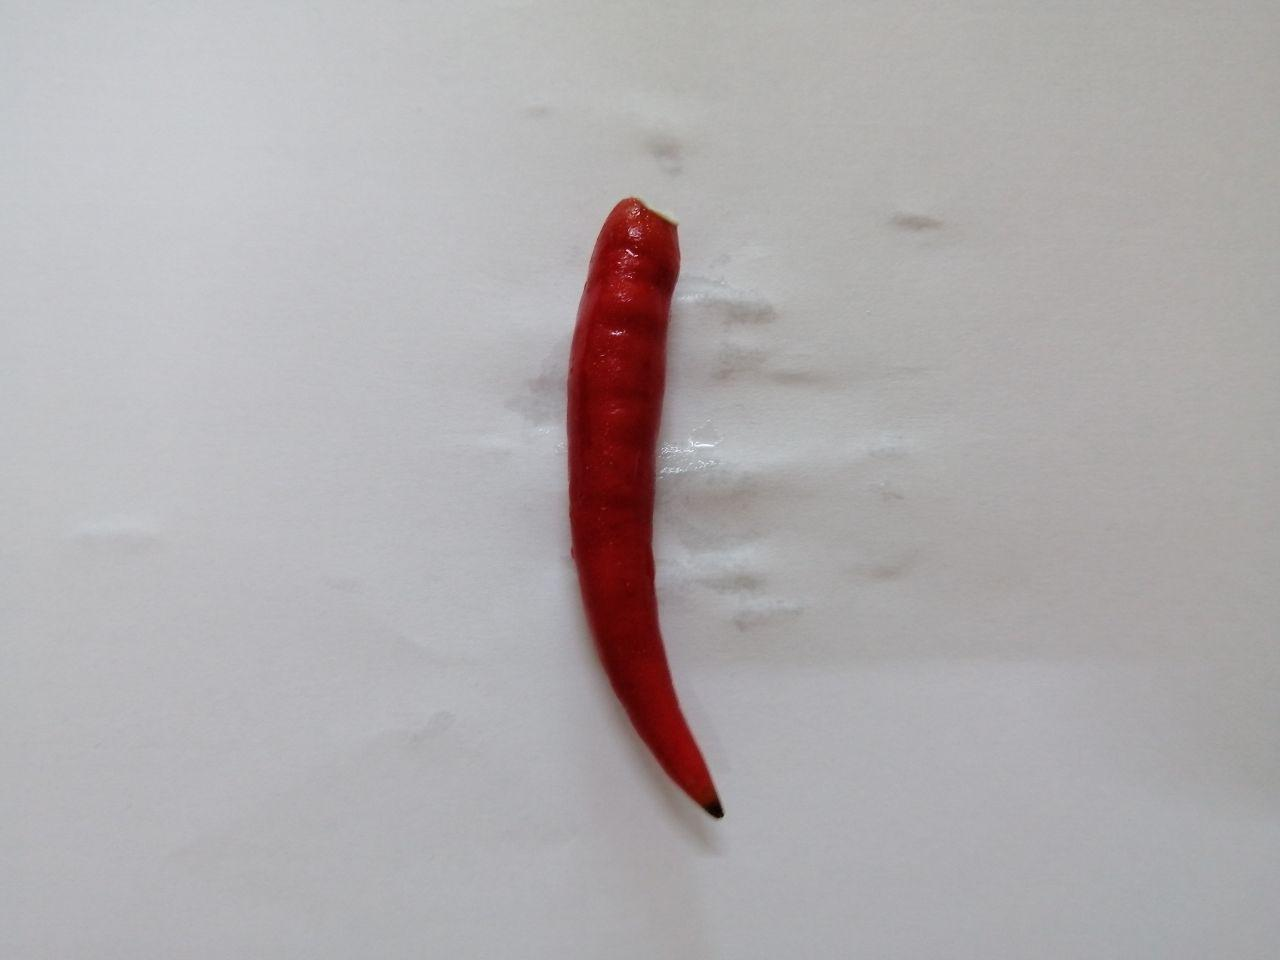lada merah: (502, 179, 783, 834)
